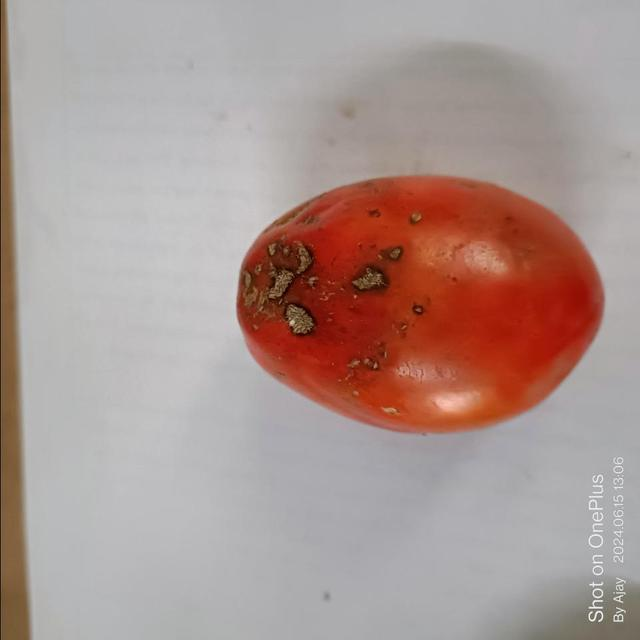Bacterial Spot Fruit: (160, 161, 275, 236)
